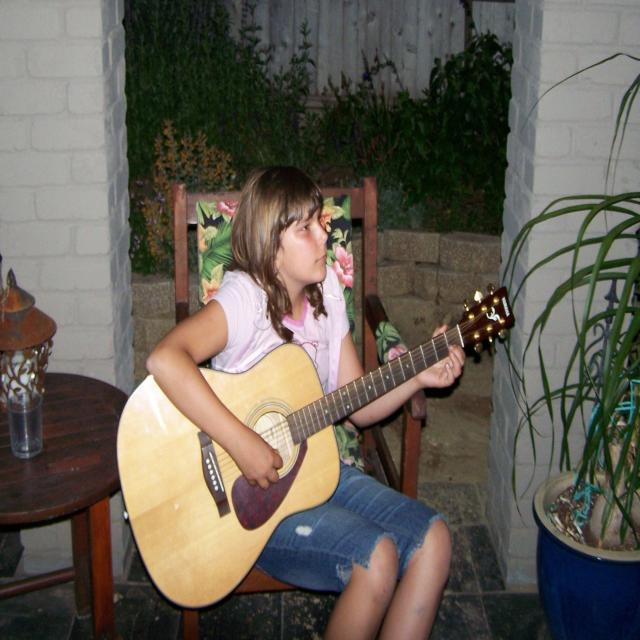guitar: (116, 287, 517, 612)
